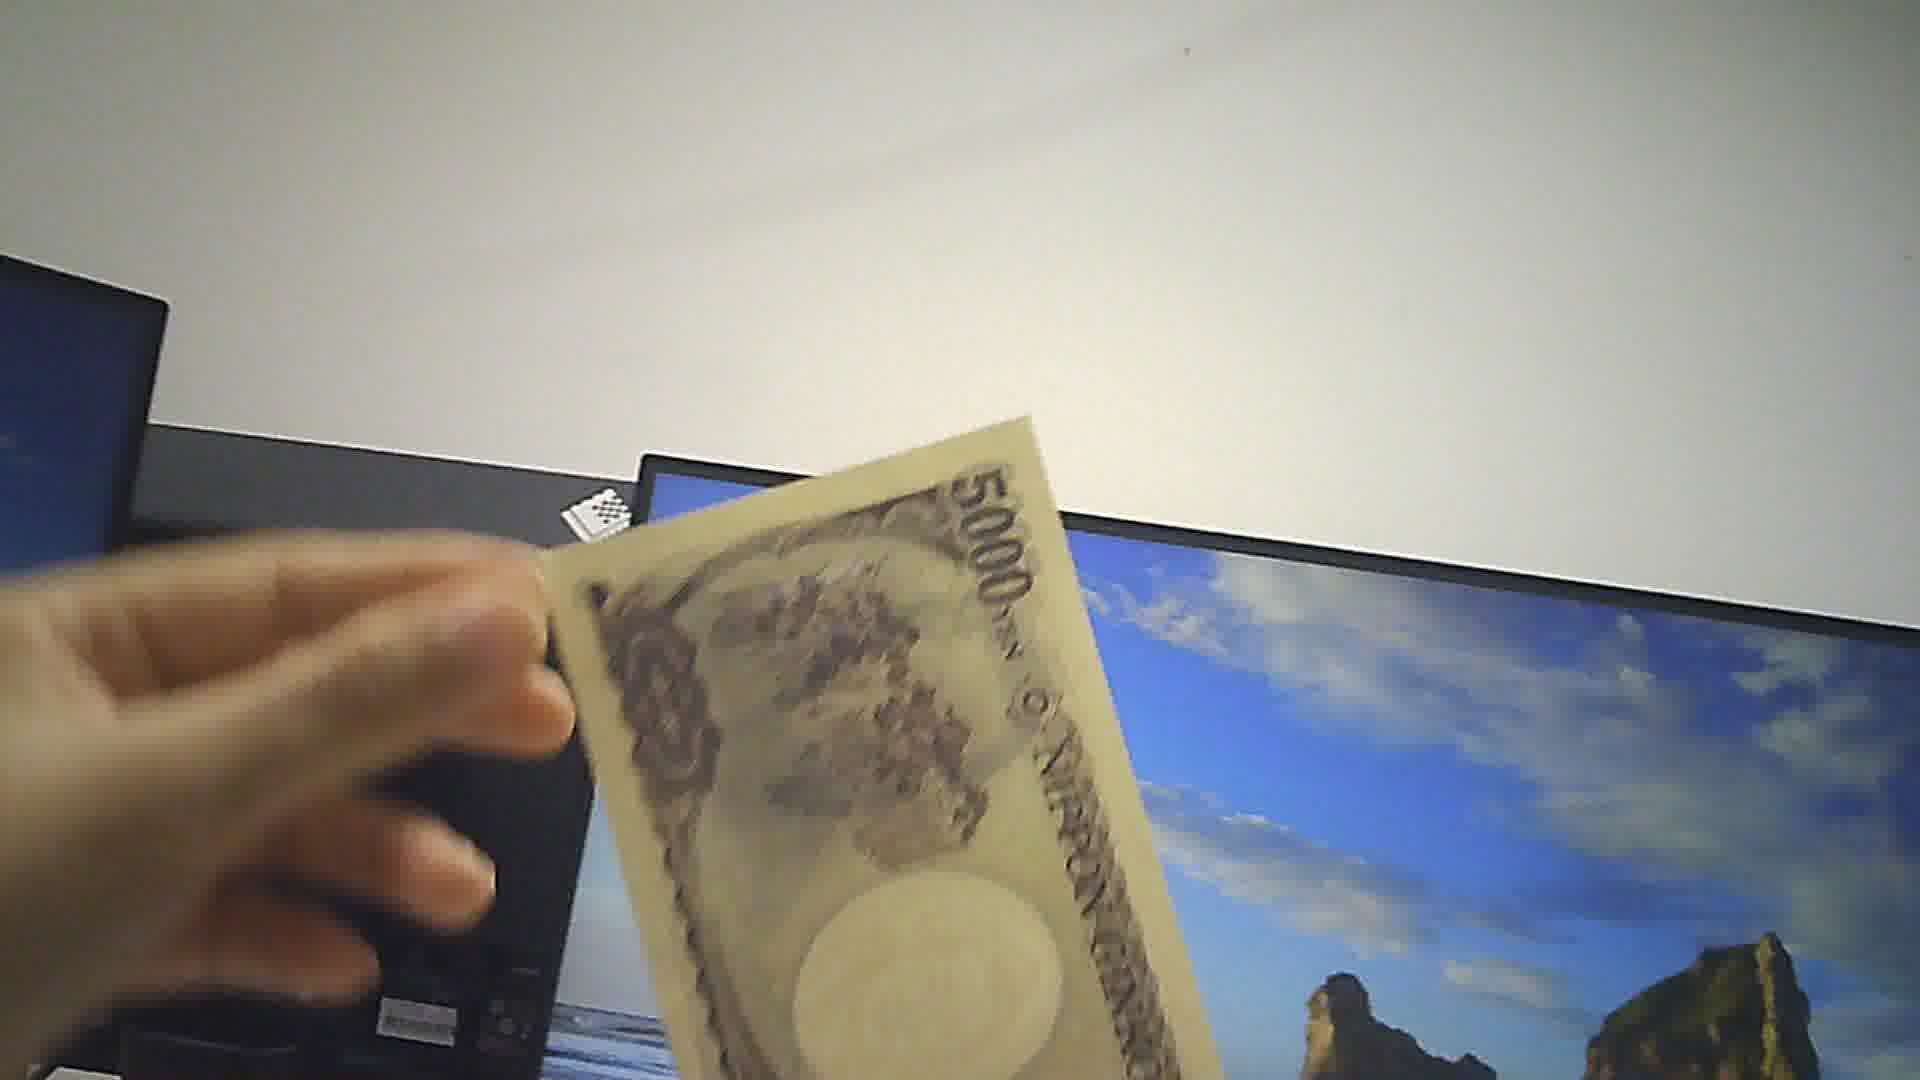5,000 Yen: (520, 438, 1197, 1079)
